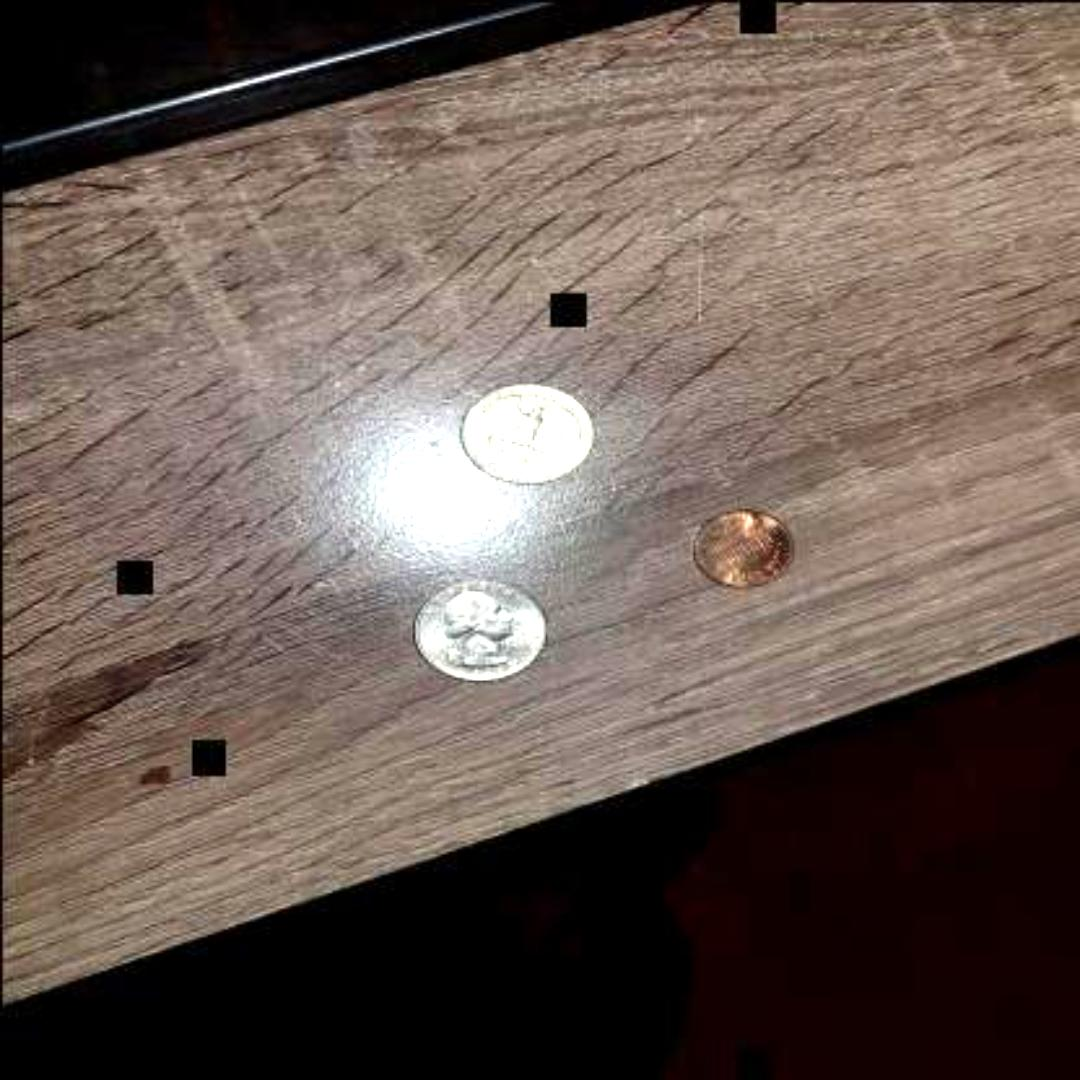Penny: (680, 502, 794, 595)
Quarter: (444, 374, 600, 488), (402, 571, 548, 685)
